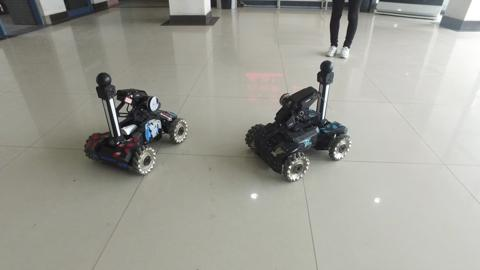chariot: (241, 58, 354, 184), (79, 68, 190, 182)
